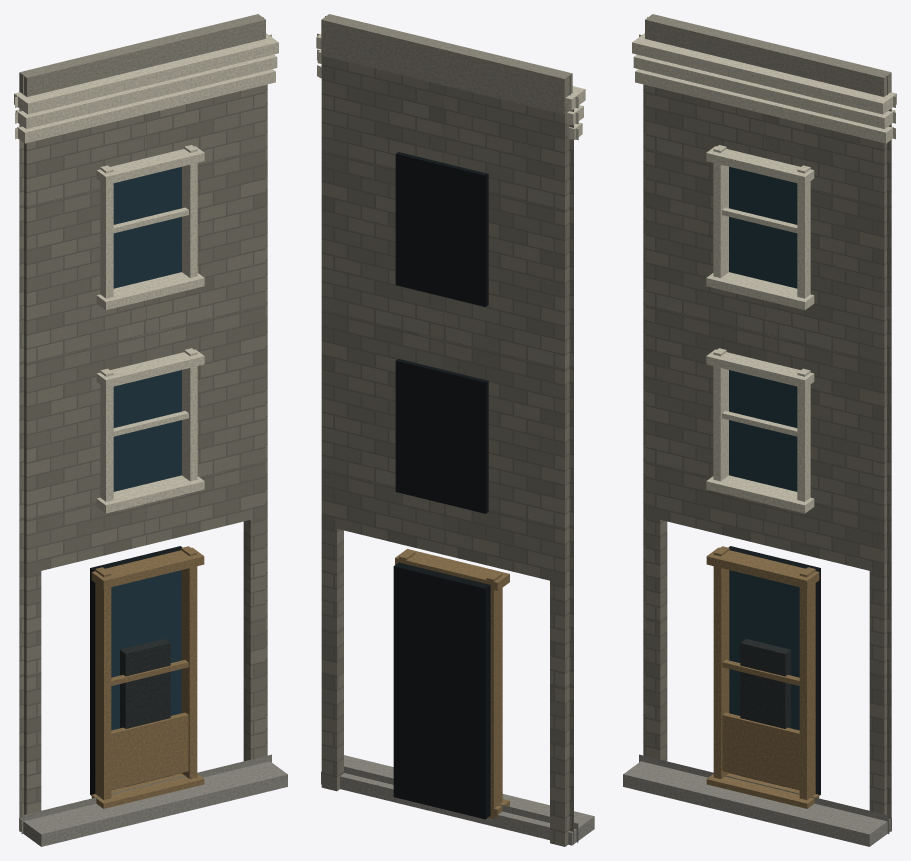
The model's file is WHSE22_lod2.glb.
3 renders of one model, left to right at view 1: azimuth 30°, elevation 25°; view 2: azimuth 150°, elevation 25°; view 3: azimuth 330°, elevation 25°, orthographic.
Visible parts, largest first — view 1: WHSE22_FRONT_LOD2; view 2: WHSE22_FRONT_LOD2; view 3: WHSE22_FRONT_LOD2.
Boxes of the visible parts, x1,y1,x2,y2 form: WHSE22_FRONT_LOD2: (14, 14, 287, 846); WHSE22_FRONT_LOD2: (316, 14, 594, 846); WHSE22_FRONT_LOD2: (623, 14, 896, 846).
Size of the model in its own units: 3.44 by 9.66 by 0.68.
Materials: 9 (7 with a texture image).
